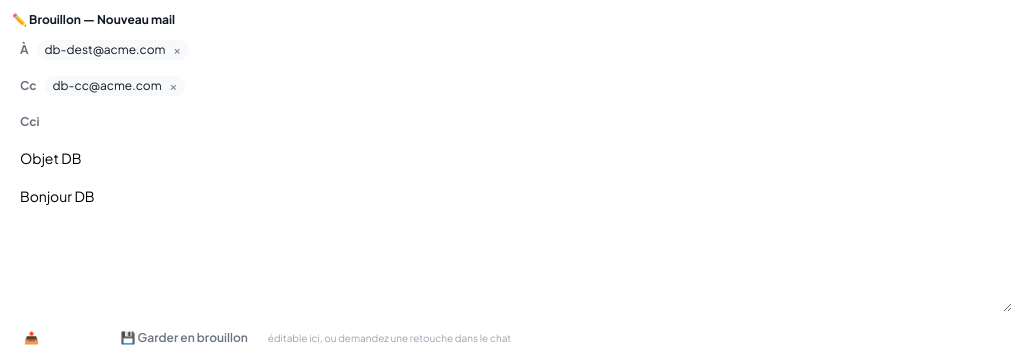
Scenario: MailDraftWidget › autosave debouncé › échec de saveDraft (ok:false) → indicateur d’échec, sans crash
Replace the text in the field named "Objet" with "Nouvel objet" at (512, 158), box [12,144,1012,172]
Wait 2000 ms
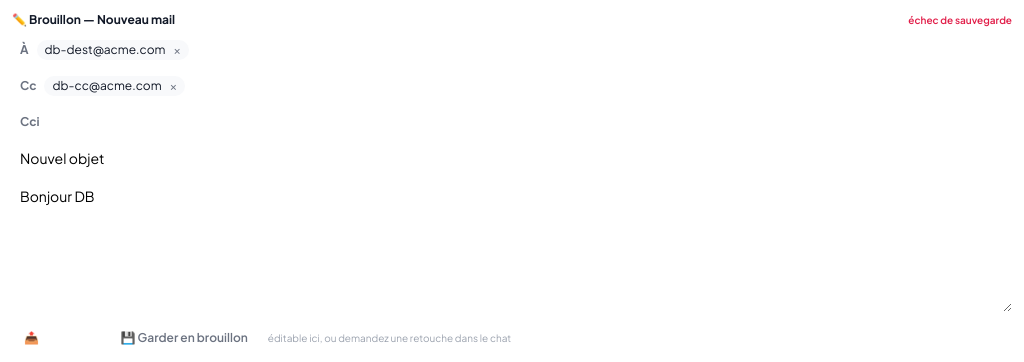
Now the message reads "échec de sauvegarde", box [908,14,1012,26]
